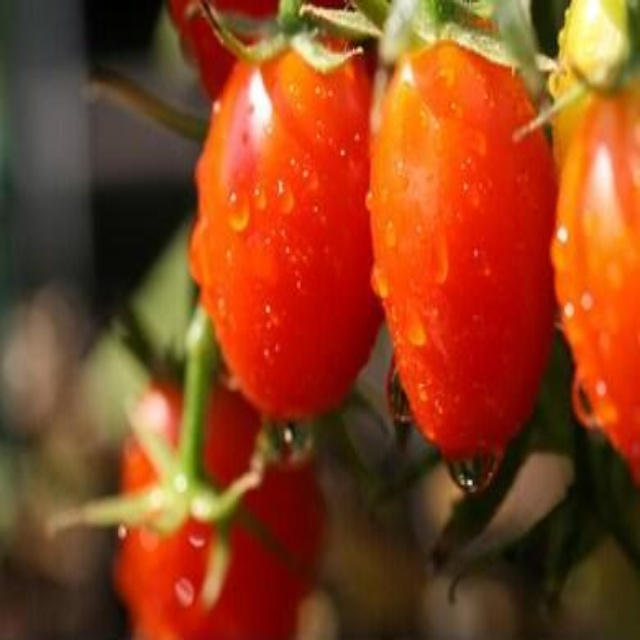tomato: (189, 38, 389, 427), (367, 47, 546, 465), (98, 373, 331, 636), (533, 87, 639, 490)
